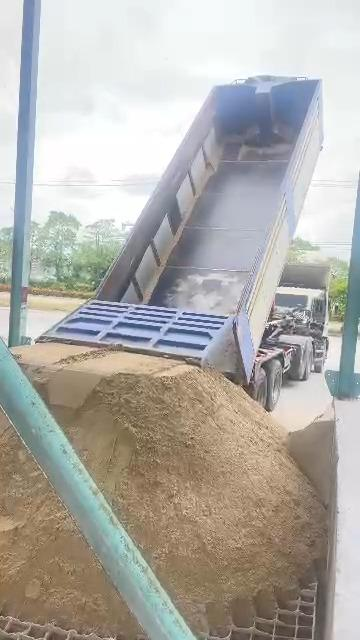sand: (11, 337, 323, 630), (0, 418, 137, 635), (288, 406, 336, 507)
